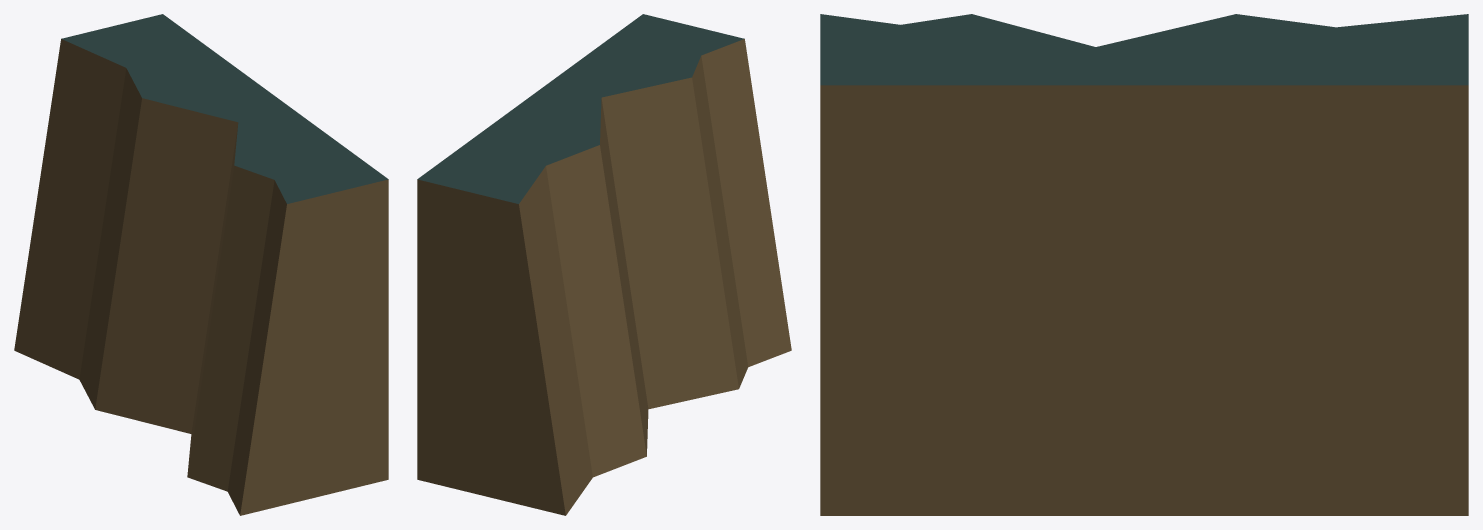
File: Brown_Cliff_Bottom_Green_Top_01.obj
3 renders of one model, left to right at view 1: azimuth 30°, elevation 25°; view 2: azimuth 150°, elevation 25°; view 3: azimuth 270°, elevation 25°, orthographic. The views are drawn at different scales.
Visible parts, largest first — view 1: Mesh1_Brown_Cliff_Bottom_Green_Top_Model; view 2: Mesh1_Brown_Cliff_Bottom_Green_Top_Model; view 3: Mesh1_Brown_Cliff_Bottom_Green_Top_Model.
Boxes of the visible parts, x1,y1,x2,y2 form: Mesh1_Brown_Cliff_Bottom_Green_Top_Model: (14, 14, 388, 515); Mesh1_Brown_Cliff_Bottom_Green_Top_Model: (417, 14, 791, 515); Mesh1_Brown_Cliff_Bottom_Green_Top_Model: (820, 14, 1468, 515).
Size of the model in its own units: 1.14 by 2.2 by 3.
